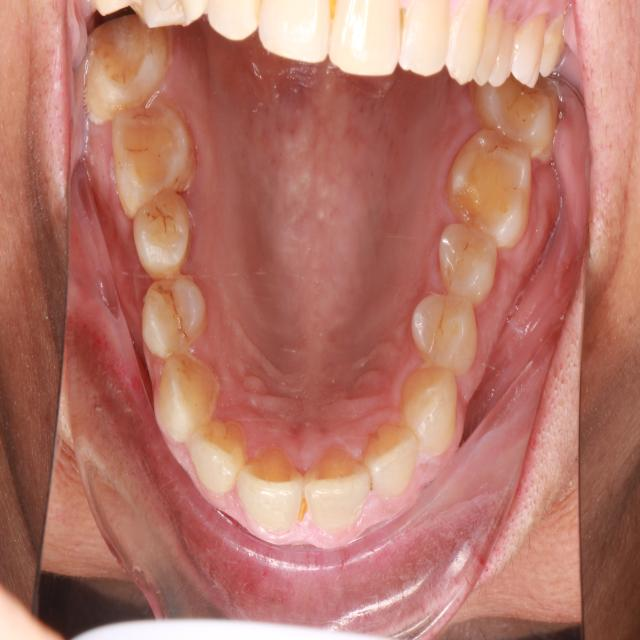tooth: (434, 117, 544, 254), (105, 107, 207, 228), (77, 11, 178, 133), (135, 260, 221, 378), (119, 186, 211, 293), (226, 442, 315, 547), (403, 279, 491, 385), (294, 436, 380, 541), (471, 73, 564, 166), (151, 355, 228, 459), (182, 410, 256, 513), (397, 354, 467, 456), (434, 222, 508, 302), (362, 417, 424, 503)
